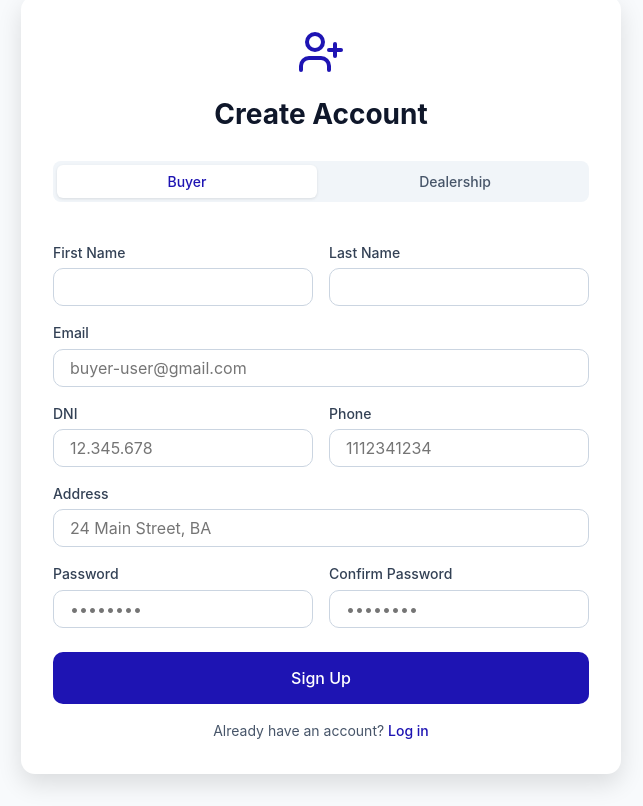
Test case: RegisterPage › DNI Formatting › should handle partial DNI input
Step 1. Type "123" into the field labelled "DNI" → x=183, y=448, box [53,429,313,467]
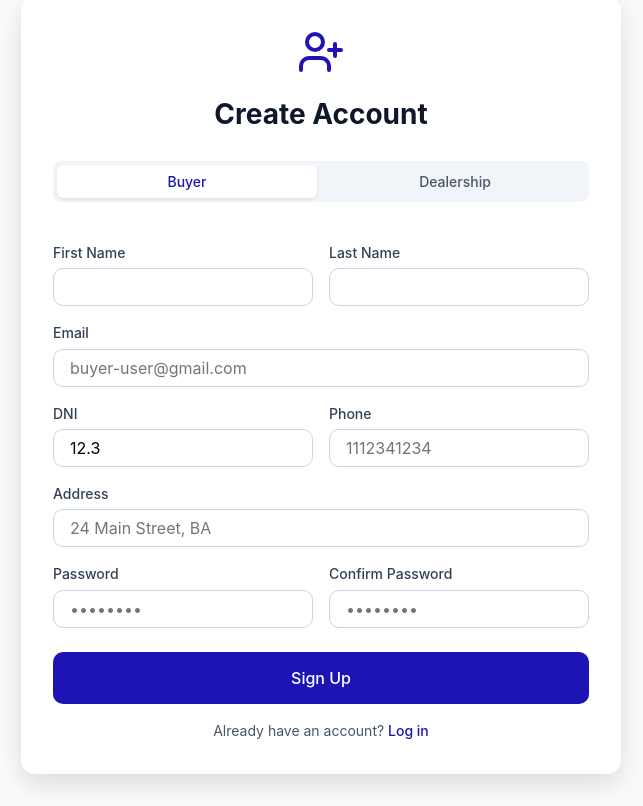
expect the field labelled "DNI" holds "12.3": met, box [53,429,313,467]
